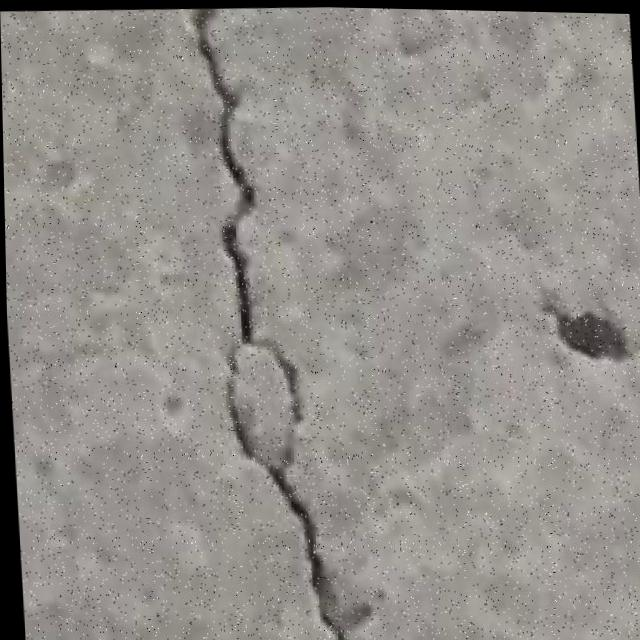Crack: (170, 3, 367, 640)
